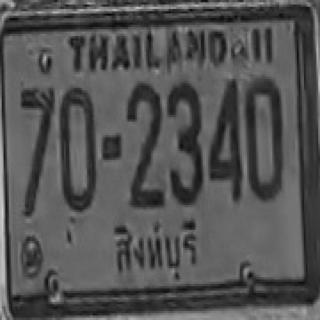N00: (244, 76, 282, 200), (59, 86, 96, 210)
N02: (127, 81, 163, 205), (125, 82, 161, 202)
N03: (166, 80, 202, 204)
N04: (208, 78, 242, 199)
N07: (20, 87, 53, 215)
P62: (104, 213, 205, 286)
